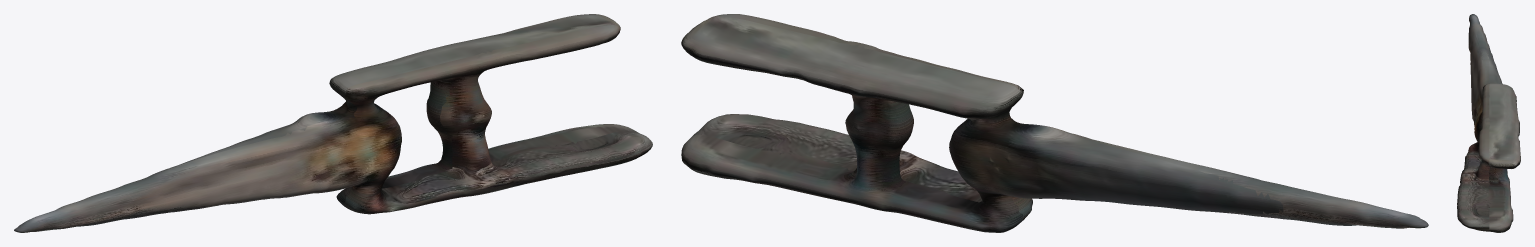
The model's file is kfl-2222.glb.
3 renders of one model, left to right at view 1: azimuth 30°, elevation 25°; view 2: azimuth 150°, elevation 25°; view 3: azimuth 270°, elevation 25°, orthographic. The views are drawn at different scales.
Parts seen in each view (by area): view 1: geometry_0; view 2: geometry_0; view 3: geometry_0.
Boxes of the visible parts, box(x1,y1,x2,y2) form: geometry_0: box(14, 14, 652, 232); geometry_0: box(681, 14, 1428, 232); geometry_0: box(1457, 14, 1520, 232).
Bounding box in the file's own units: 0.9842 × 0.1938 × 0.1509.
Materials: 1 (1 with a texture image).
